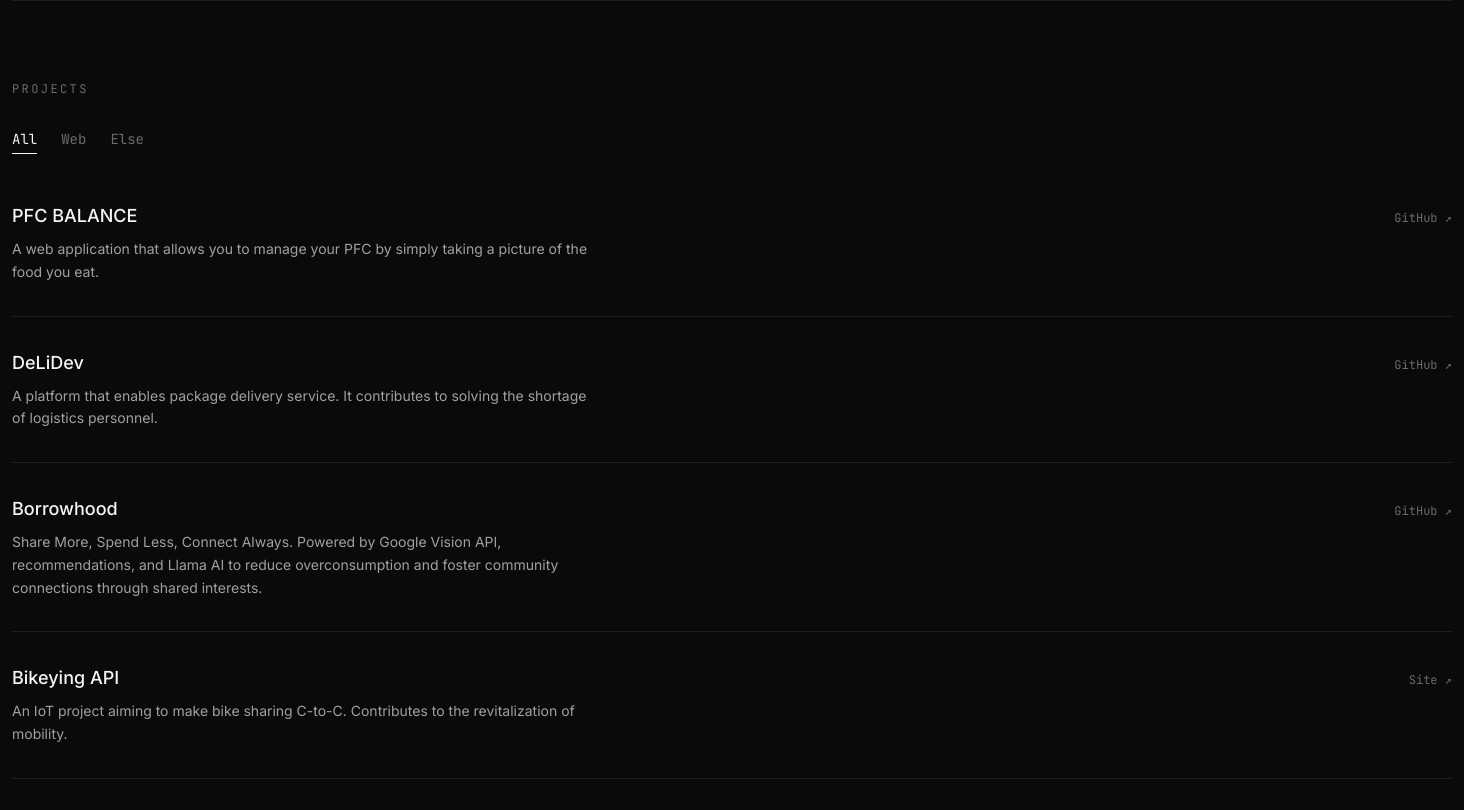
ProjectsSection › displays only web projects when we click on the "Web" tag
Click the button "Web": (74, 142) [61,129,86,154]
(page scrolled)
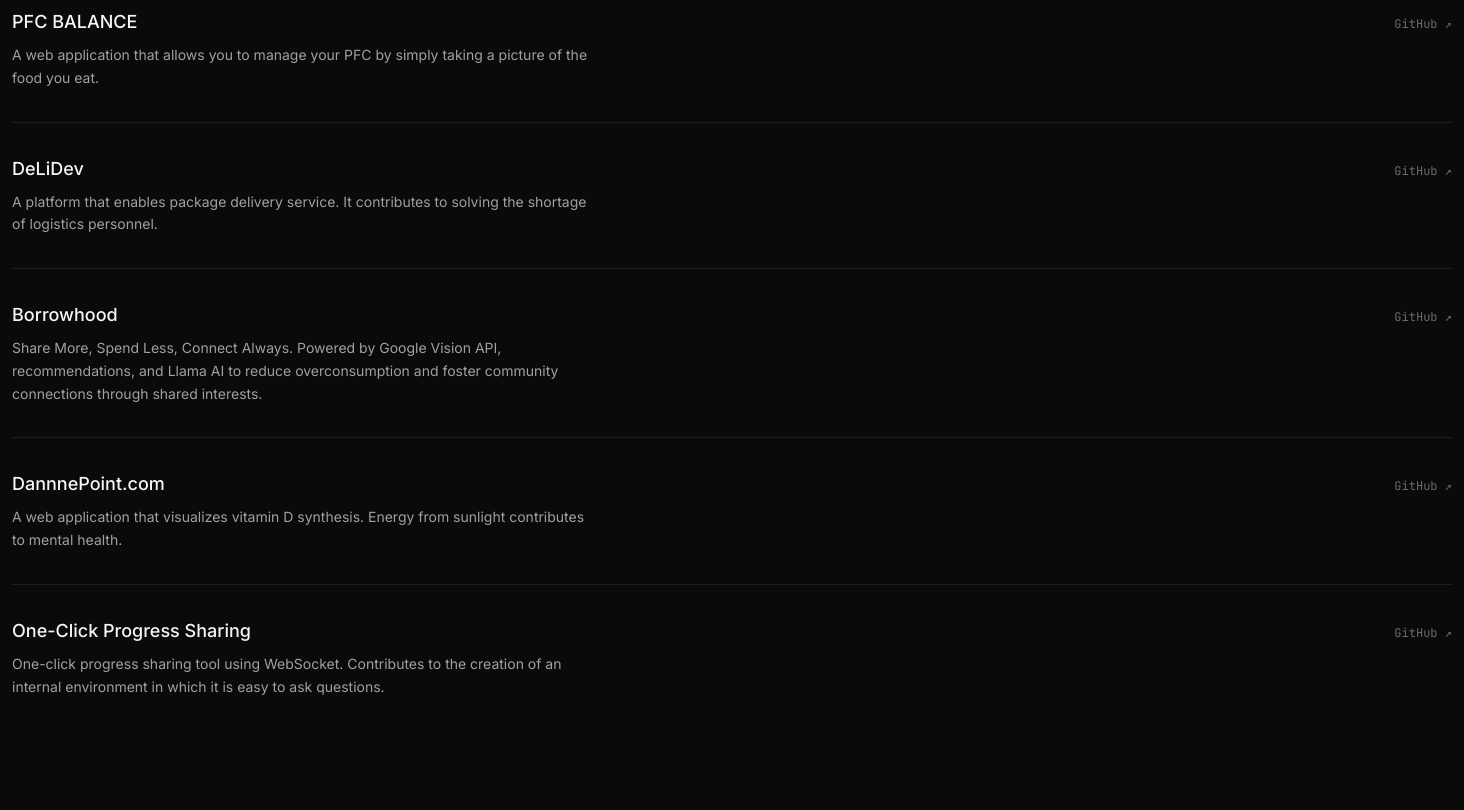
Expected: the heading "PFC BALANCE" is shown, [12,8,137,36]
Result: the heading "Bikeying API" is gone
